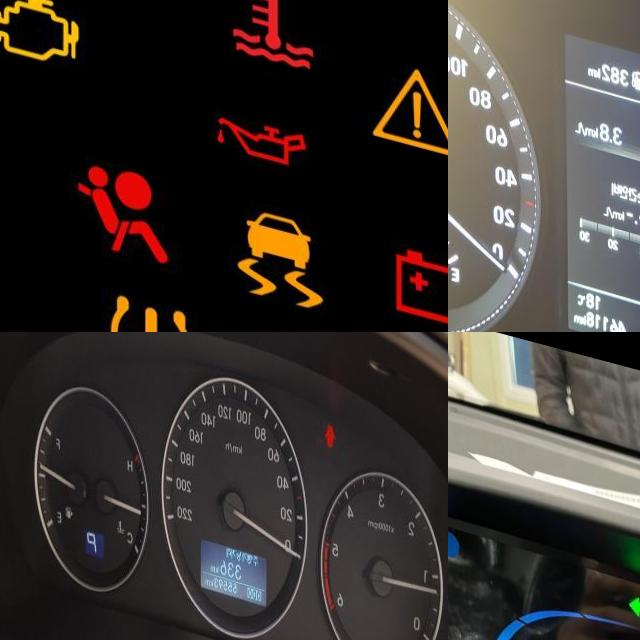Doors: (326, 399, 336, 424)
High Engine Coolant Temperature: (217, 0, 328, 75)
